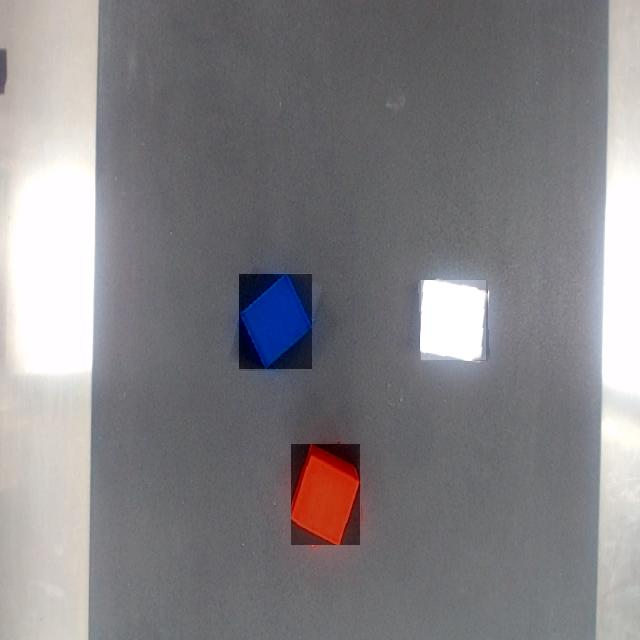Azul: (239, 275, 312, 369)
Blanco: (421, 281, 486, 360)
Rojo: (291, 444, 360, 545)
